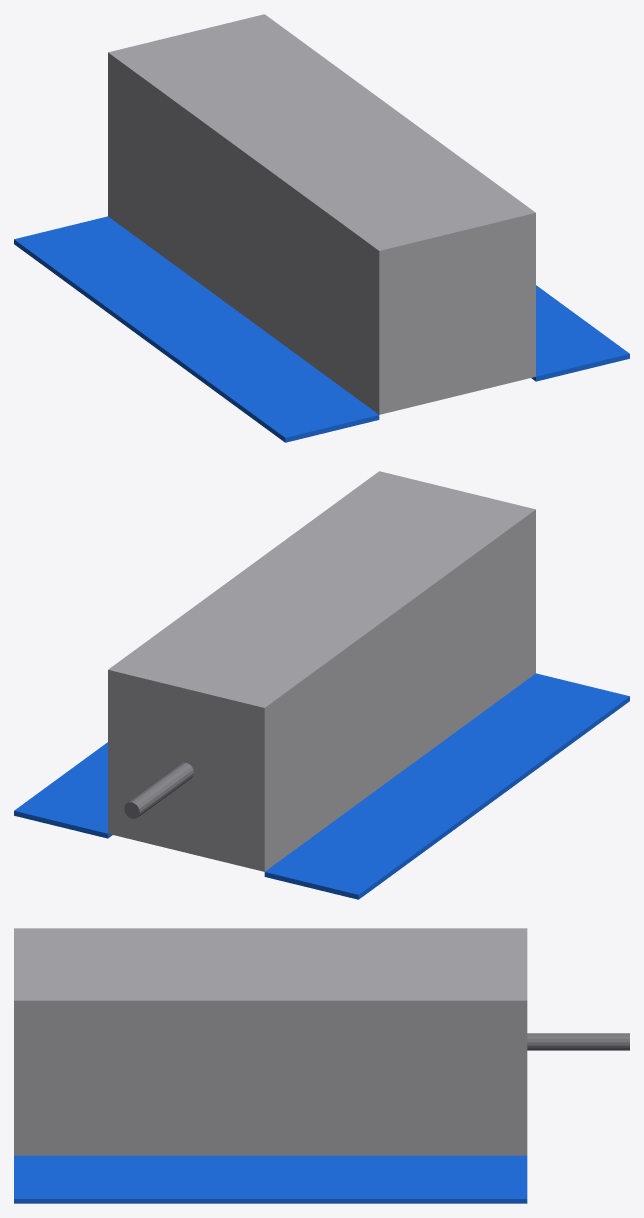
The model's file is cubesat_HYBRID_open.obj.
The picture shows the model from 3 angles, top to bottom: view 1: azimuth 30°, elevation 25°; view 2: azimuth 150°, elevation 25°; view 3: azimuth 270°, elevation 25°; orthographic projection. The views are drawn at different scales.
Size of the model in its own units: 0.22 by 0.103 by 0.36.
